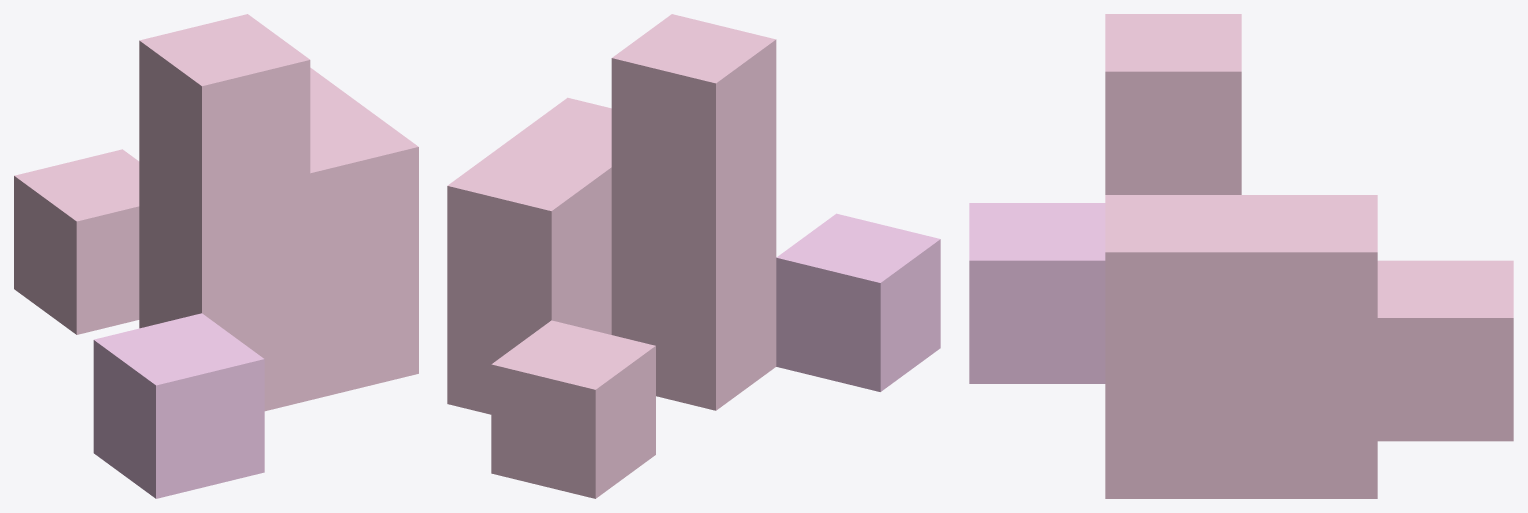
Rendered from tile-22.obj.
3 views of the same model, side by side, from view 1: azimuth 30°, elevation 25°; view 2: azimuth 150°, elevation 25°; view 3: azimuth 270°, elevation 25° (orthographic). The views are drawn at different scales.
Size of the model in its own units: 0.3 by 0.3 by 0.4.
